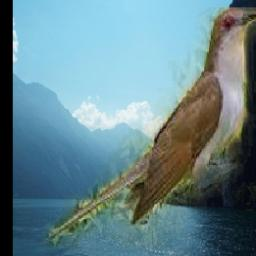Cuckoo: (37, 8, 256, 249)
